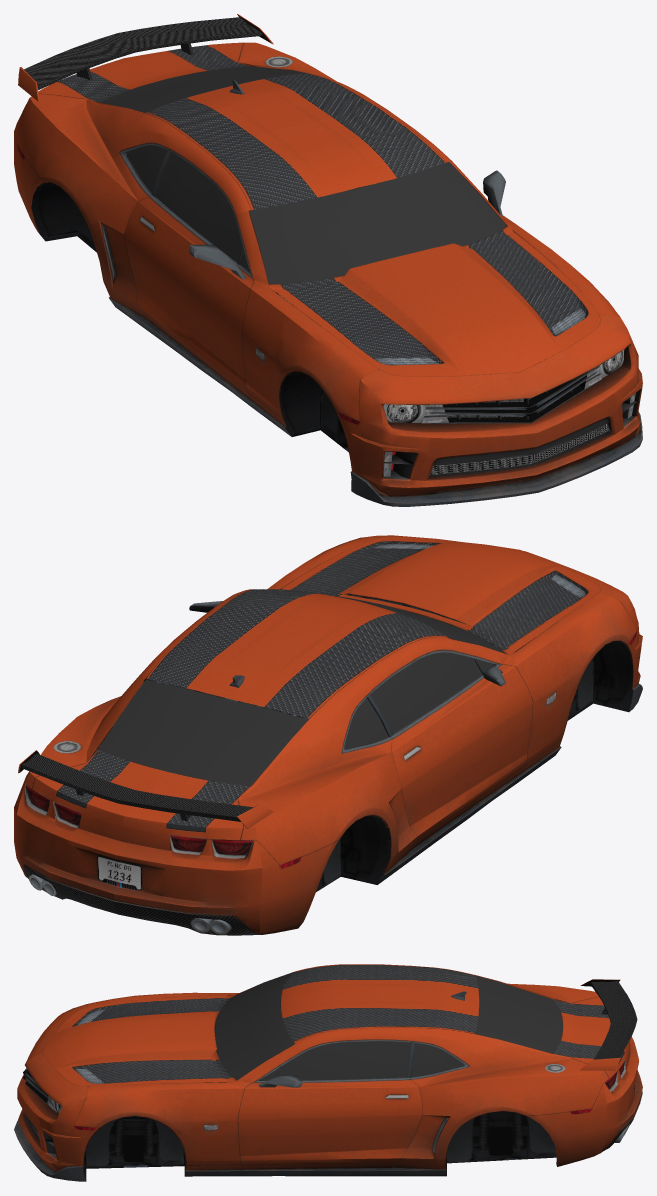
Rendered from Plus car.fbx.
3 renders of one model, top to bottom at view 1: azimuth 30°, elevation 25°; view 2: azimuth 150°, elevation 25°; view 3: azimuth 270°, elevation 25°, orthographic. The views are drawn at different scales.
Visible parts, largest first — view 1: plus_car; view 2: plus_car; view 3: plus_car.
Part boxes in pixels (x1=…): plus_car: x1=14, y1=14, x2=642, y2=506; plus_car: x1=14, y1=535, x2=642, y2=935; plus_car: x1=14, y1=964, x2=642, y2=1181.
Size of the model in its own units: 459 by 267 by 1086.
Materials: 1 (1 with a texture image).
